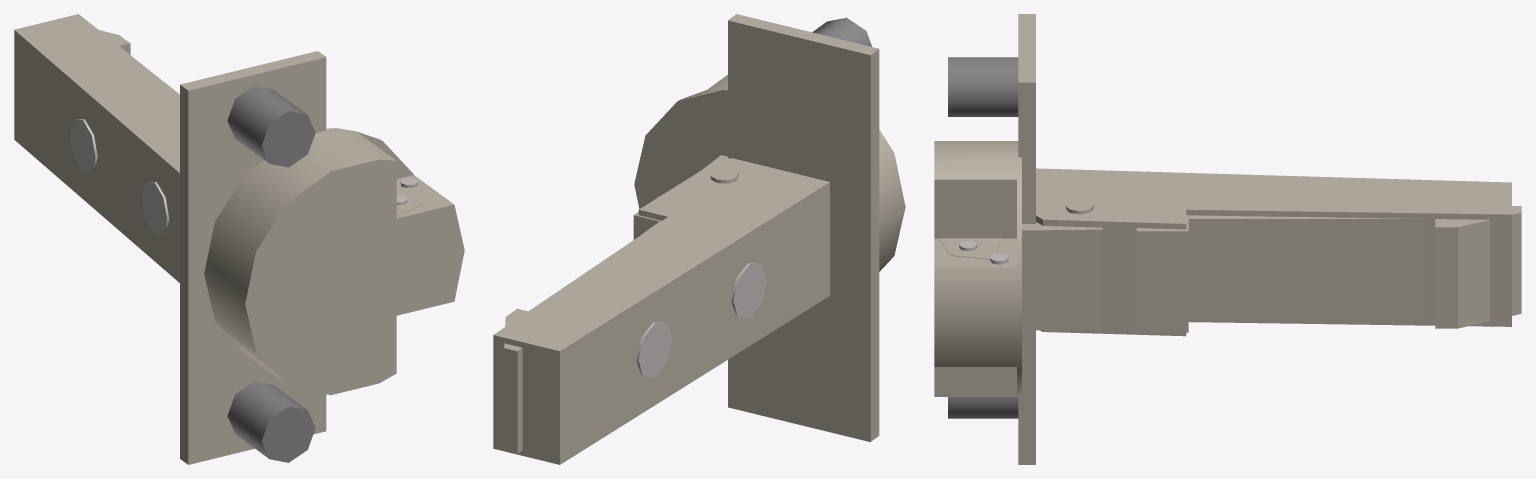
3 views of the same model, side by side, from view 1: azimuth 30°, elevation 25°; view 2: azimuth 150°, elevation 25°; view 3: azimuth 270°, elevation 25° (orthographic). The views are drawn at different scales.
Parts seen in each view (by area): view 1: bau0045622955-1, bau0045622803-1; view 2: bau0045622803-1, bau0045622955-1, bau0019426112-1; view 3: bau0019426112-1, bau0045622955-1, bau0045622803-1, bau0016549209-1, bau0016549175-2.
Part boxes in pixels (left/top/right/bottom): bau0045622955-1: left=180, top=51, right=464, bottom=464; bau0045622803-1: left=14, top=14, right=179, bottom=282; bau0045622803-1: left=493, top=158, right=829, bottom=464; bau0045622955-1: left=634, top=14, right=905, bottom=441; bau0019426112-1: left=504, top=196, right=661, bottom=453; bau0019426112-1: left=1136, top=206, right=1521, bottom=332; bau0045622955-1: left=934, top=14, right=1035, bottom=464; bau0045622803-1: left=1036, top=168, right=1511, bottom=336; bau0016549209-1: left=1022, top=222, right=1102, bottom=330; bau0016549175-2: left=939, top=238, right=1003, bottom=259.
Size of the model in its own units: 37.5 by 57 by 79.35.
